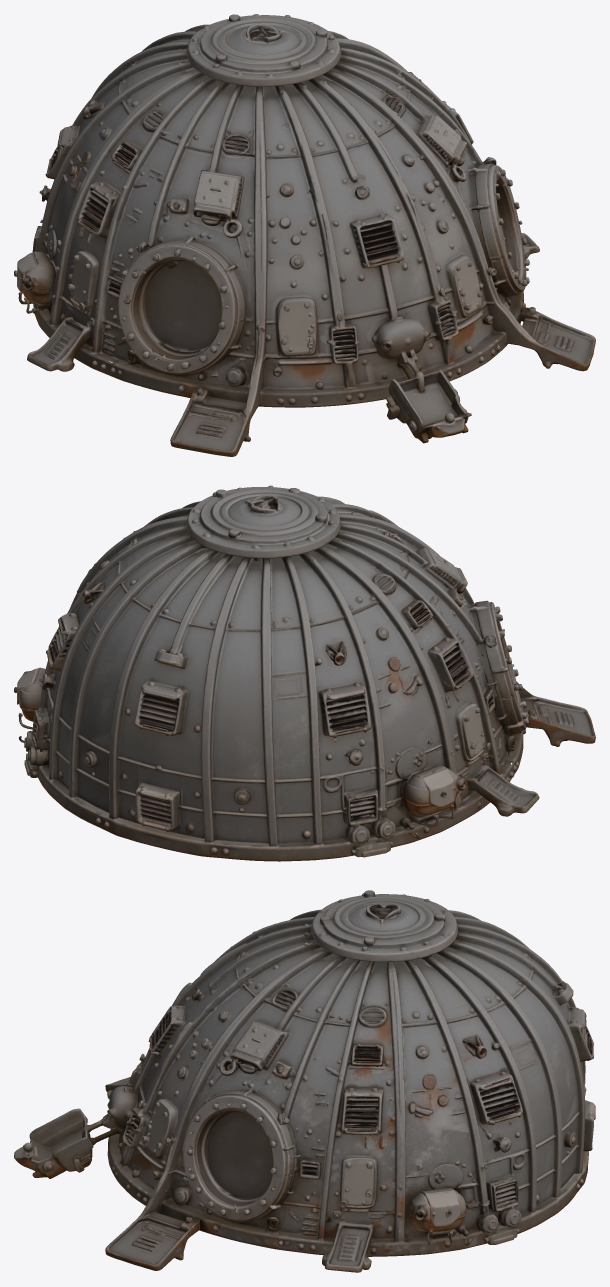
The model's file is mars_habitat_low.glb.
3 views of the same model, one above another, from view 1: azimuth 30°, elevation 25°; view 2: azimuth 150°, elevation 25°; view 3: azimuth 270°, elevation 25° (orthographic). The views are drawn at different scales.
Parts seen in each view (by area): view 1: tripo_node_4e28362d-afd5-45a7-a14b-944d908ac3a6; view 2: tripo_node_4e28362d-afd5-45a7-a14b-944d908ac3a6; view 3: tripo_node_4e28362d-afd5-45a7-a14b-944d908ac3a6.
Part boxes in pixels (x1,y1,x2,y2): tripo_node_4e28362d-afd5-45a7-a14b-944d908ac3a6: (14,14,595,456); tripo_node_4e28362d-afd5-45a7-a14b-944d908ac3a6: (14,485,595,861); tripo_node_4e28362d-afd5-45a7-a14b-944d908ac3a6: (14,890,595,1272).
Size of the model in its own units: 0.9307 by 0.4944 by 0.9826.
1 material, 1 textured.
